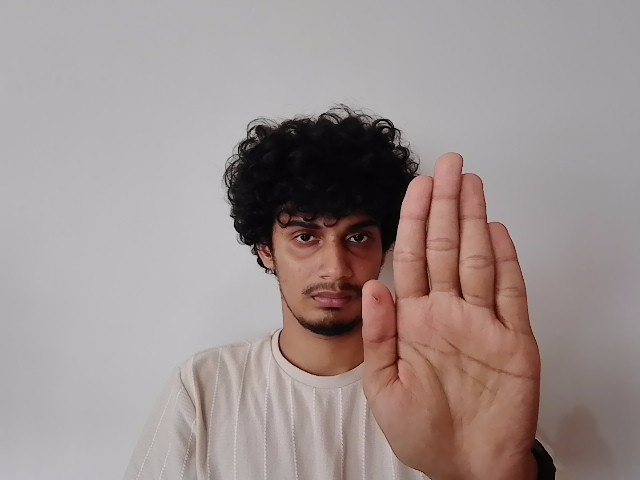hello: (358, 142, 552, 472)
